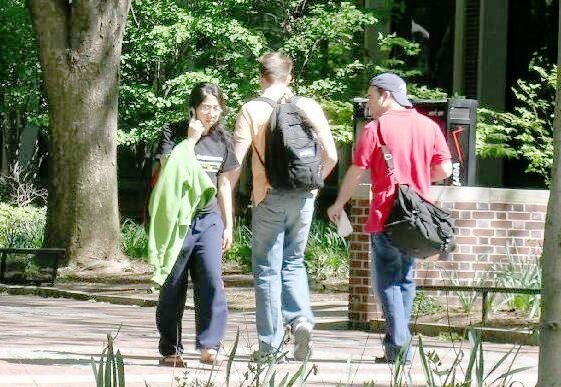person: (227, 45, 330, 359), (347, 70, 449, 359), (146, 79, 245, 371)
